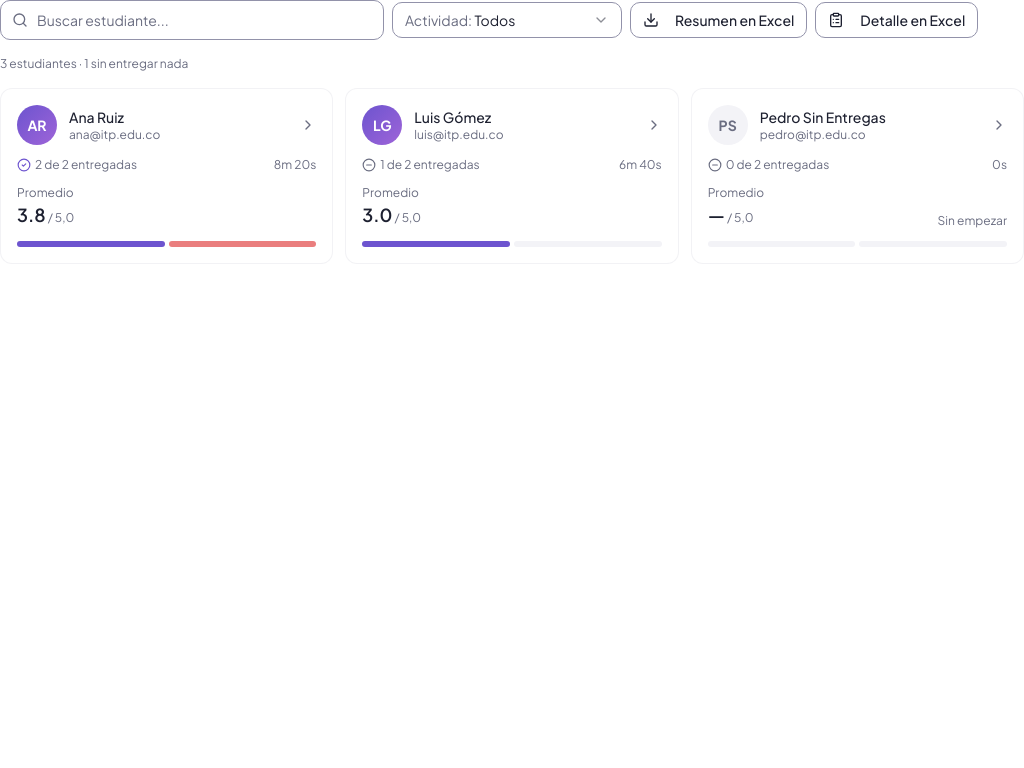
Cuadrícula de estudiantes del curso › quien no entregó no desaparece: se cuenta y se puede volver a ver
Step 1. Click the button with aria-label "Filtrar por actividad" → click(507, 20), box [392,2,622,38]
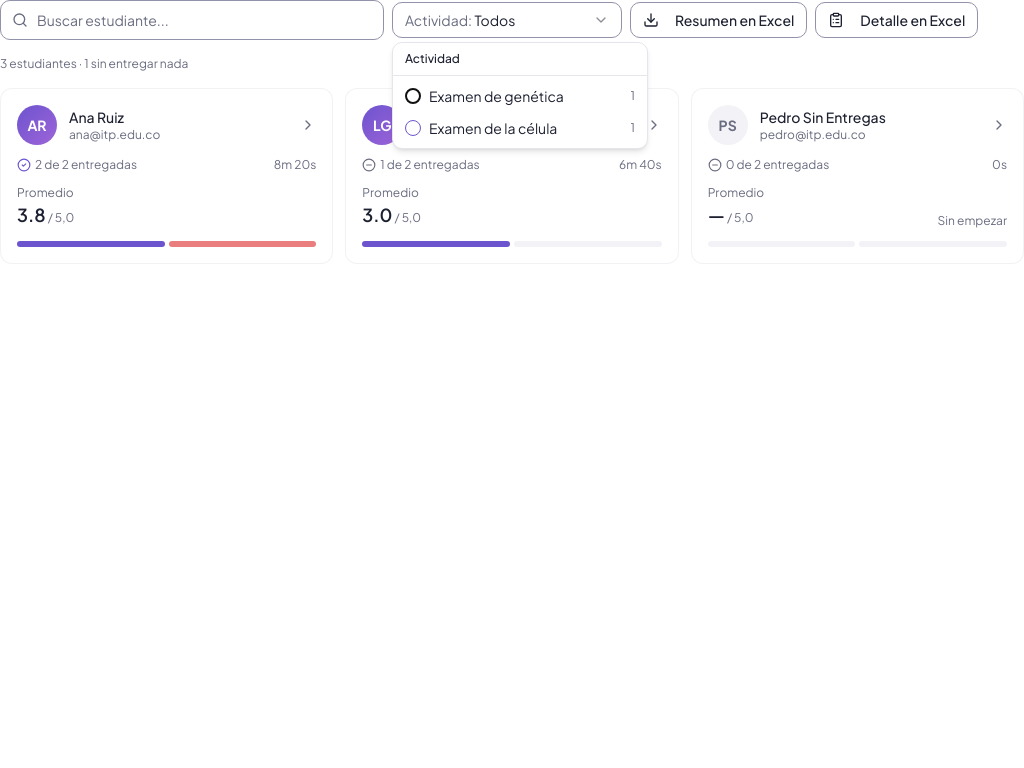
Step 2. Click the checkbox named "Examen de genética" next to "Examen de genética" → click(413, 96), box [405,88,421,104]
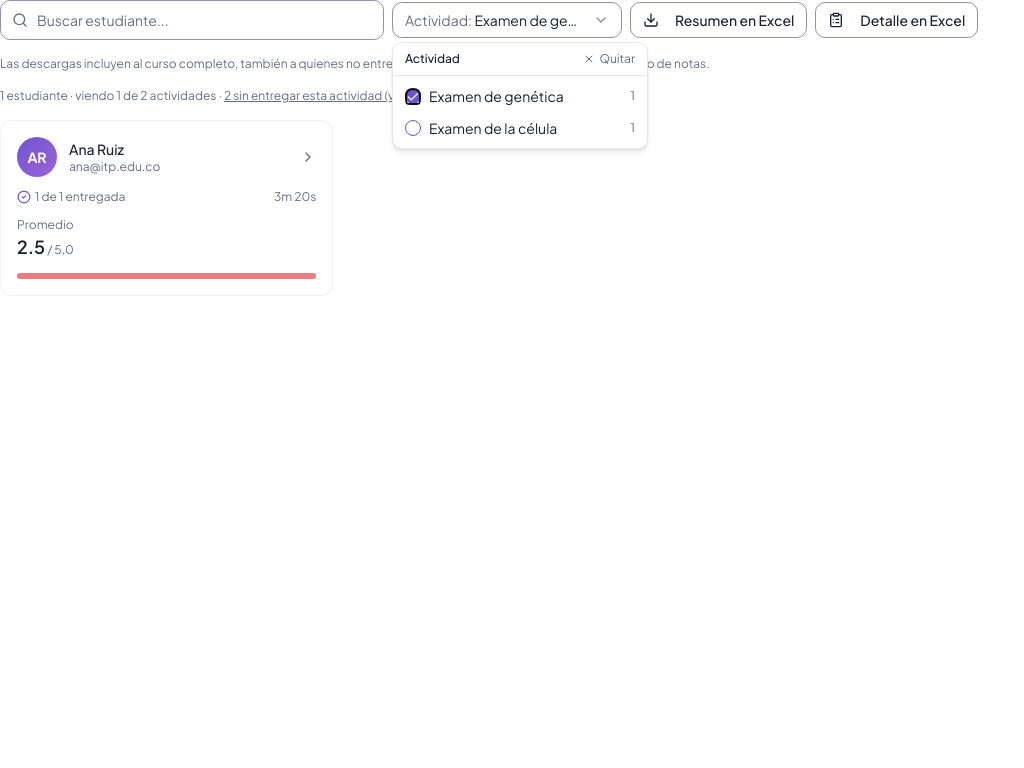
Expected: the button "Luis Gómez" is not shown
Step 3. Click the button "2 sin entregar esta actividad (ver)" → click(316, 96), box [224,88,409,104]
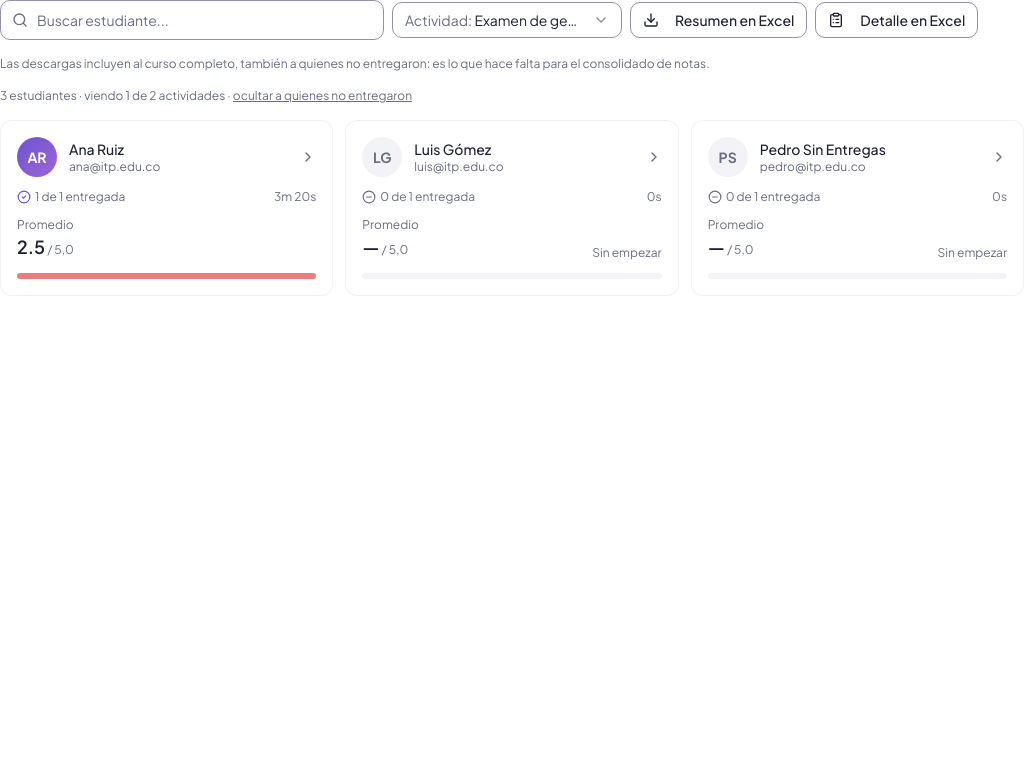
Result: the text "Luis Gómez" is shown at [414,140,491,158]
Result: the text "Pedro Sin Entregas" is shown at [760,140,886,158]
Step 4. Click the button "ocultar a quienes no entregaron" → click(322, 96), box [233,88,412,104]
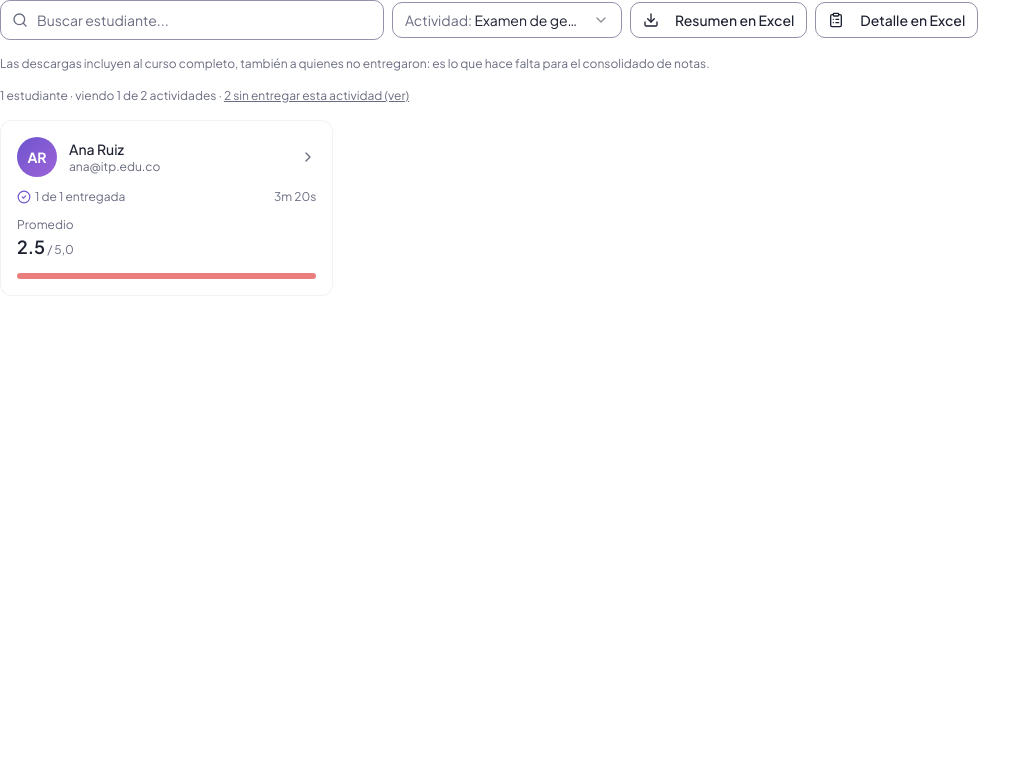
Result: the button "Luis Gómez" is gone
